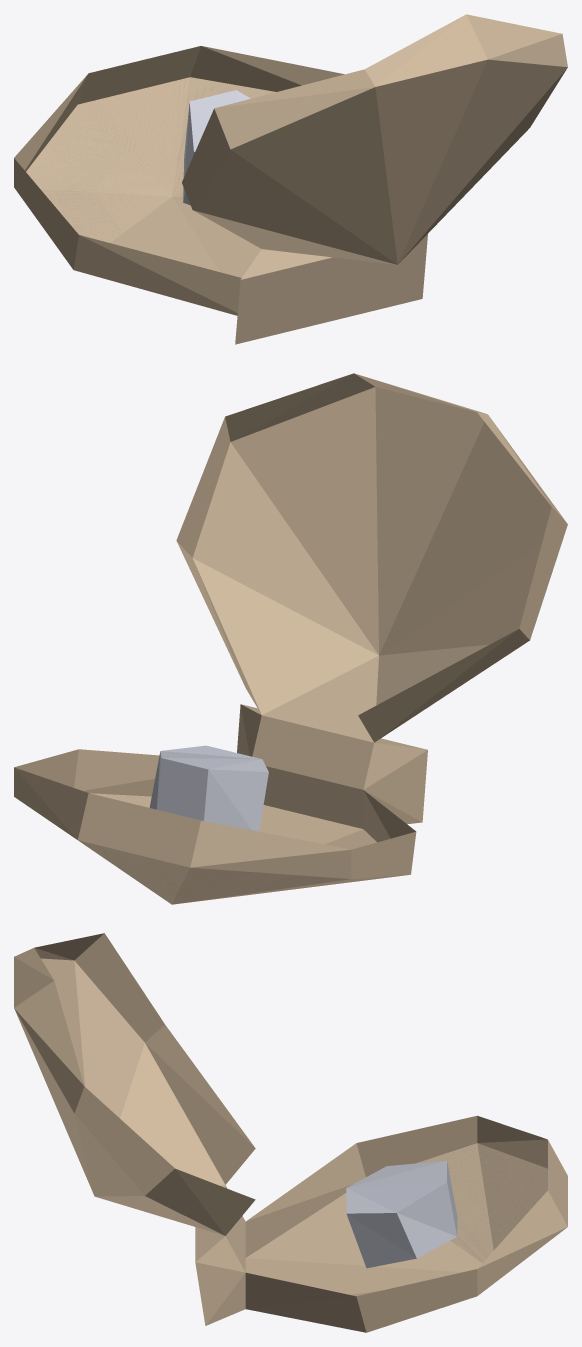
File: inv_oyster_pearl.obj
3 views of the same model, one above another, from view 1: azimuth 30°, elevation 25°; view 2: azimuth 150°, elevation 25°; view 3: azimuth 270°, elevation 25° (orthographic). The views are drawn at different scales.
Bounding box in the file's own units: 0.2812 × 0.2812 × 0.4297.
